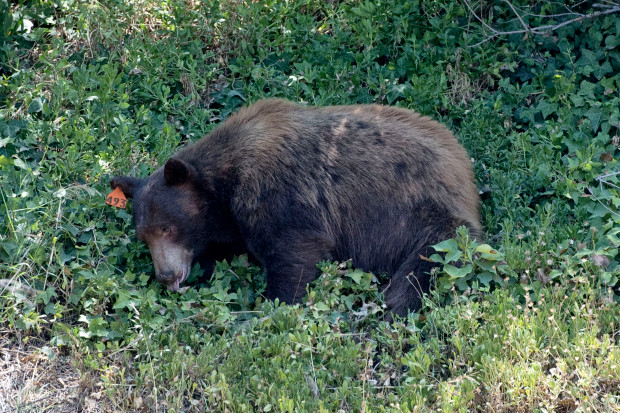bear: (107, 155, 210, 292)
